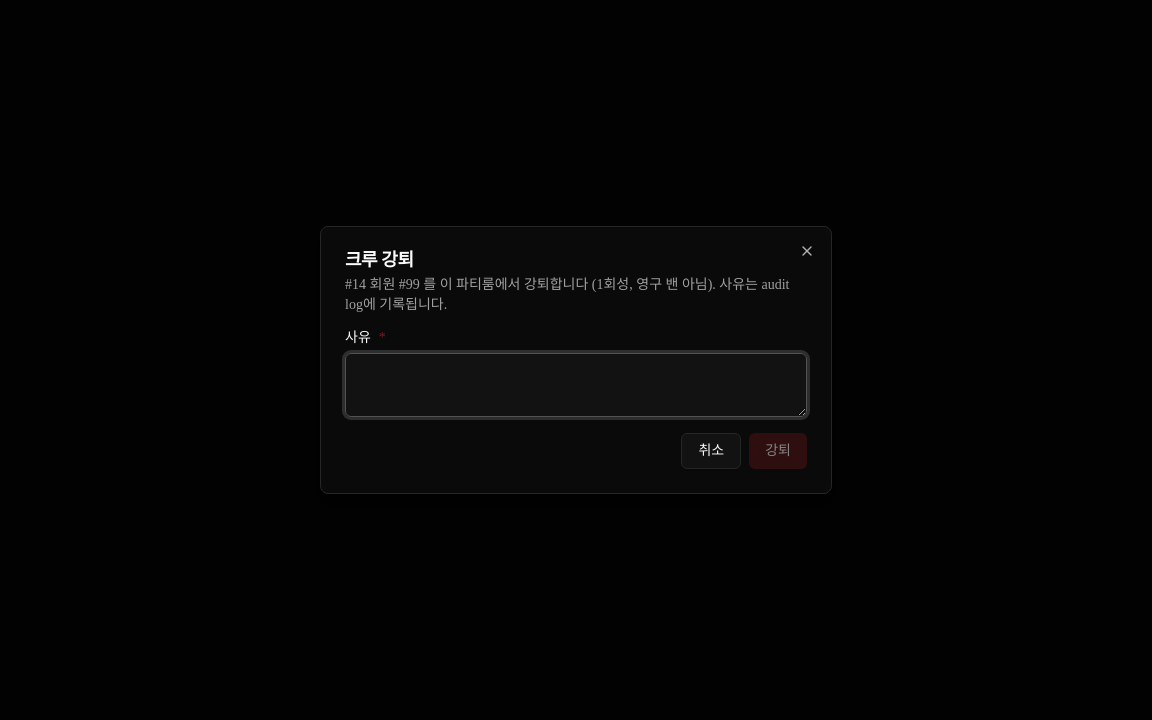
ExpelCrewDialog › submit disabled until valid reason
Expected: the button "강퇴" is disabled, [749,433,807,469]
In the text box labelled "사유": (576, 385) [345,353,807,417], type "cleanup"
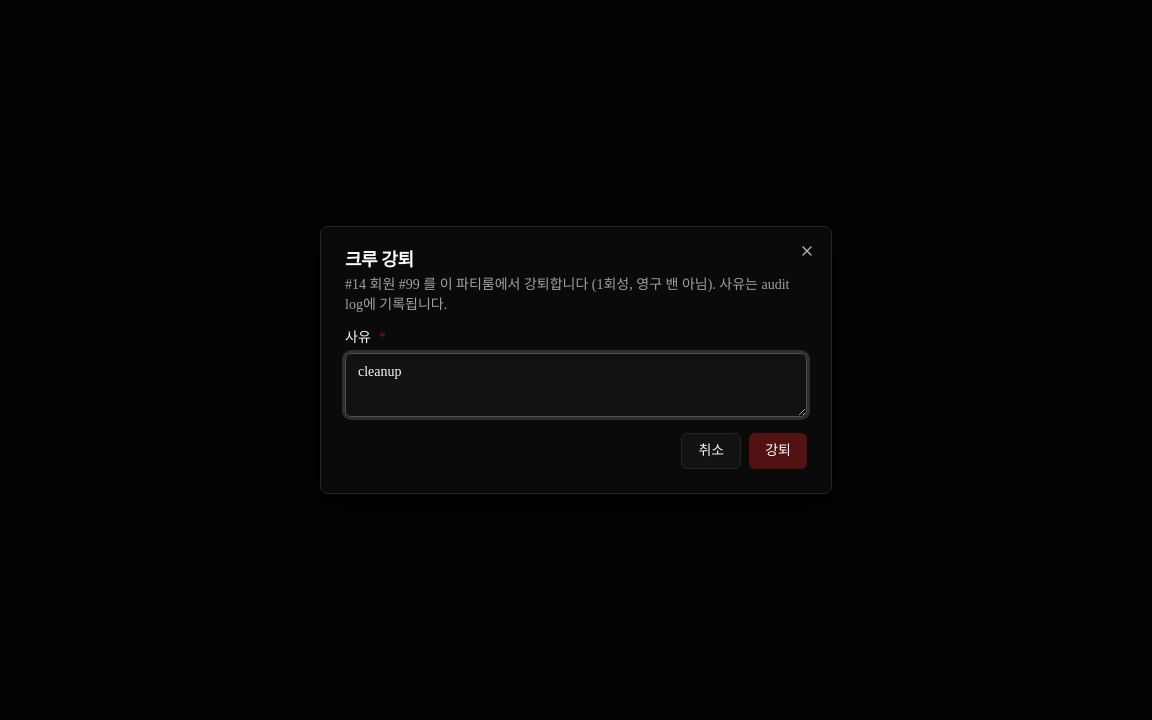
Expected: the button "강퇴" is enabled, [749,433,807,469]
